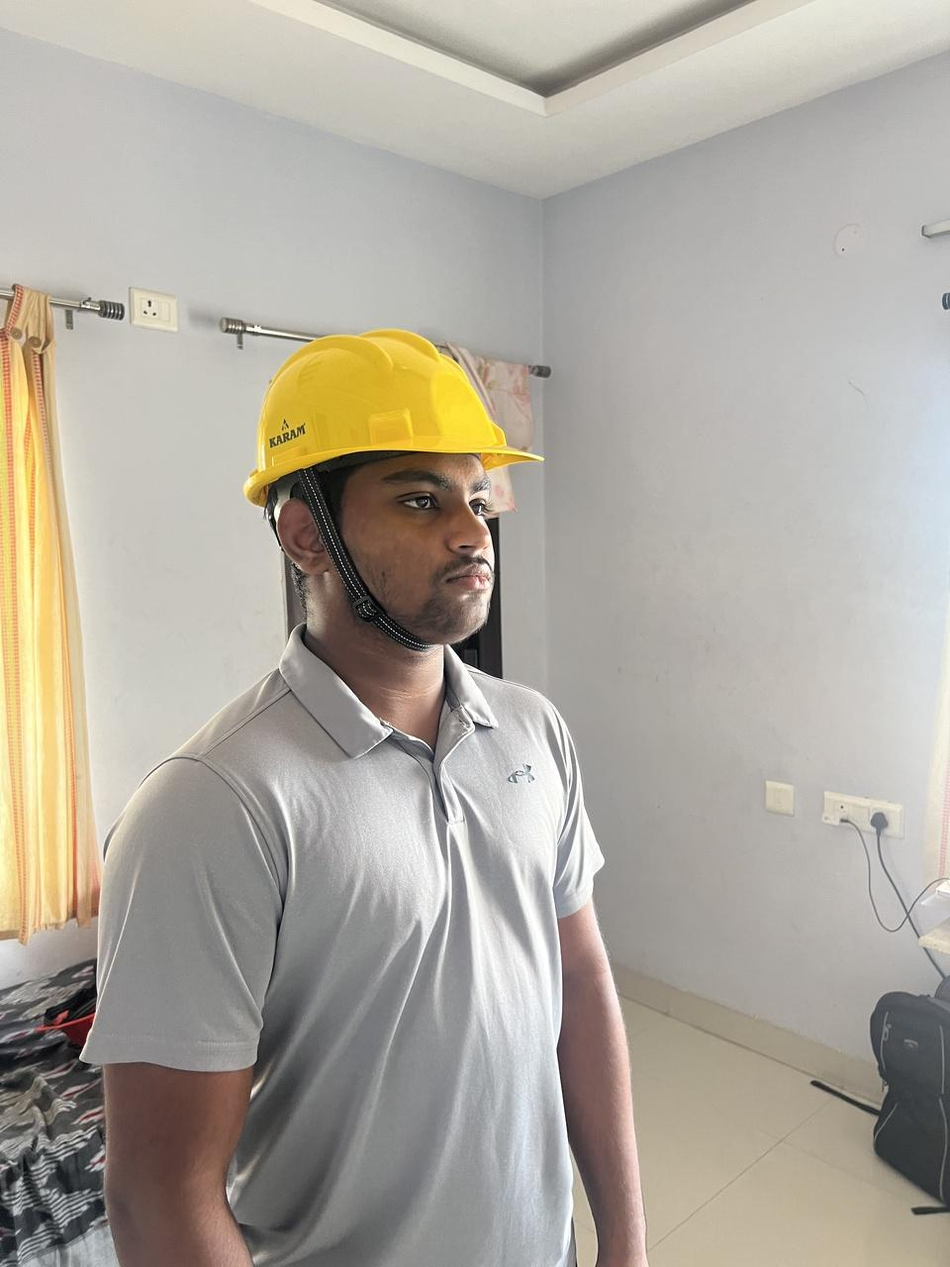Helmet: (242, 329, 544, 650)
No_Vest: (79, 622, 605, 1267)
Person: (82, 331, 647, 1267)
